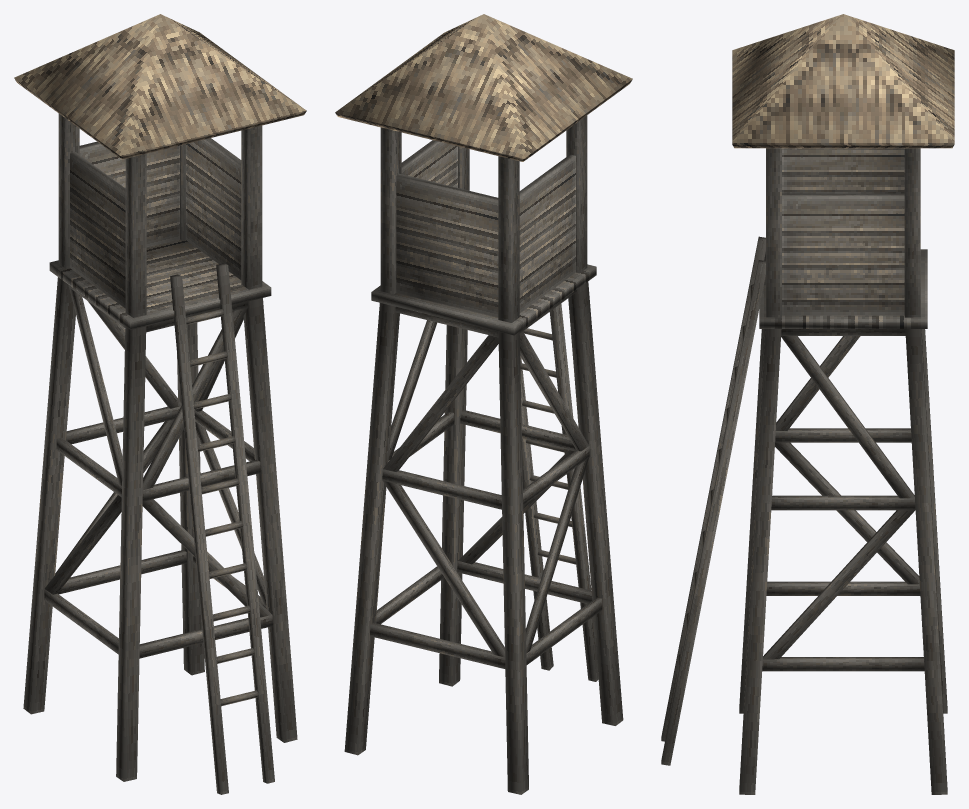
The model's file is oga_watchtower.glb.
3 views of the same model, side by side, from view 1: azimuth 30°, elevation 25°; view 2: azimuth 150°, elevation 25°; view 3: azimuth 270°, elevation 25° (orthographic). The views are drawn at different scales.
Parts seen in each view (by area): view 1: oga_watchtower; view 2: oga_watchtower; view 3: oga_watchtower.
Part boxes in pixels (x1=…): oga_watchtower: x1=14, y1=14, x2=306, y2=794; oga_watchtower: x1=335, y1=14, x2=632, y2=794; oga_watchtower: x1=661, y1=14, x2=954, y2=794.
Bounding box in the file's own units: 1.91 × 7 × 2.52.
Materials: 1 (1 with a texture image).
